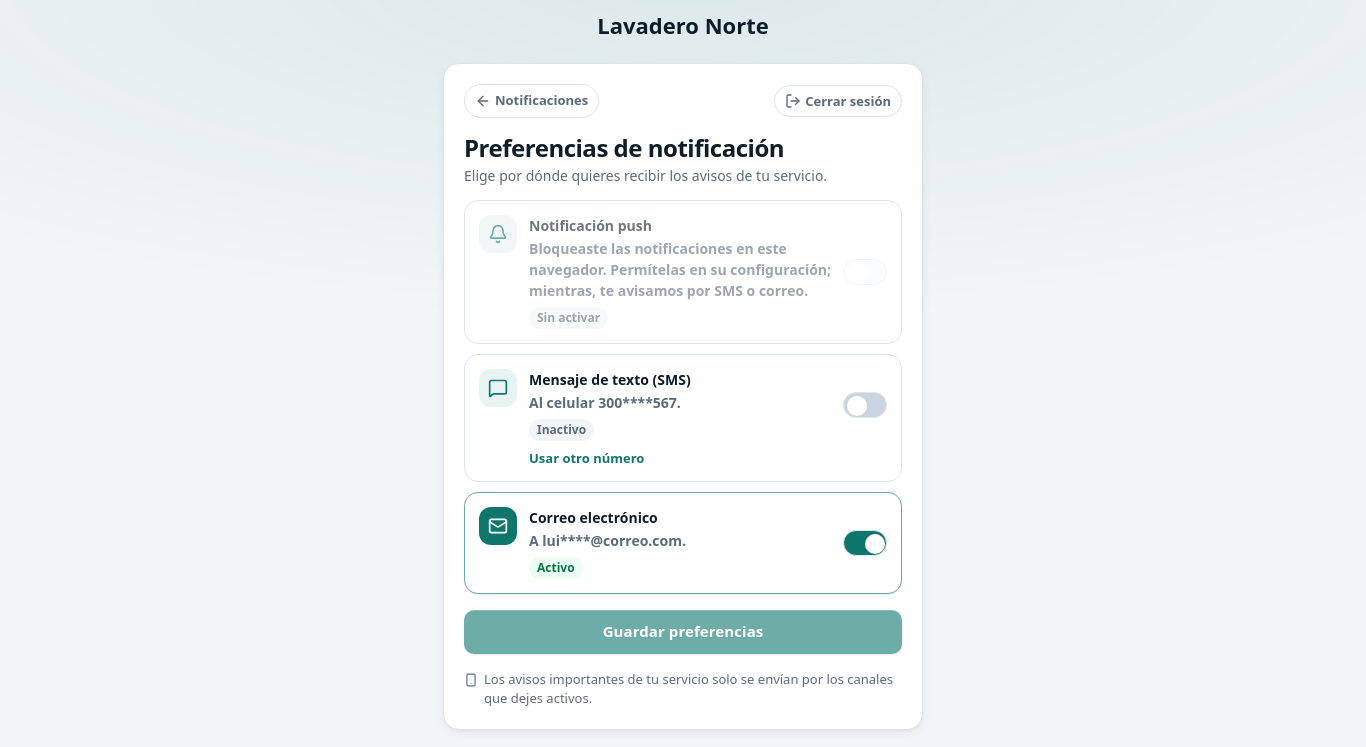
Scenario: HU-29 · pantalla de preferencias › CA2: no deja reenviar el código antes de tiempo
Expected: the heading "Preferencias de notificación" is shown, x1=464 y1=130 x2=784 y2=164
Click the button "Usar otro número" at (562, 465), box x1=465 y1=449 x2=658 y2=481
(page scrolled)
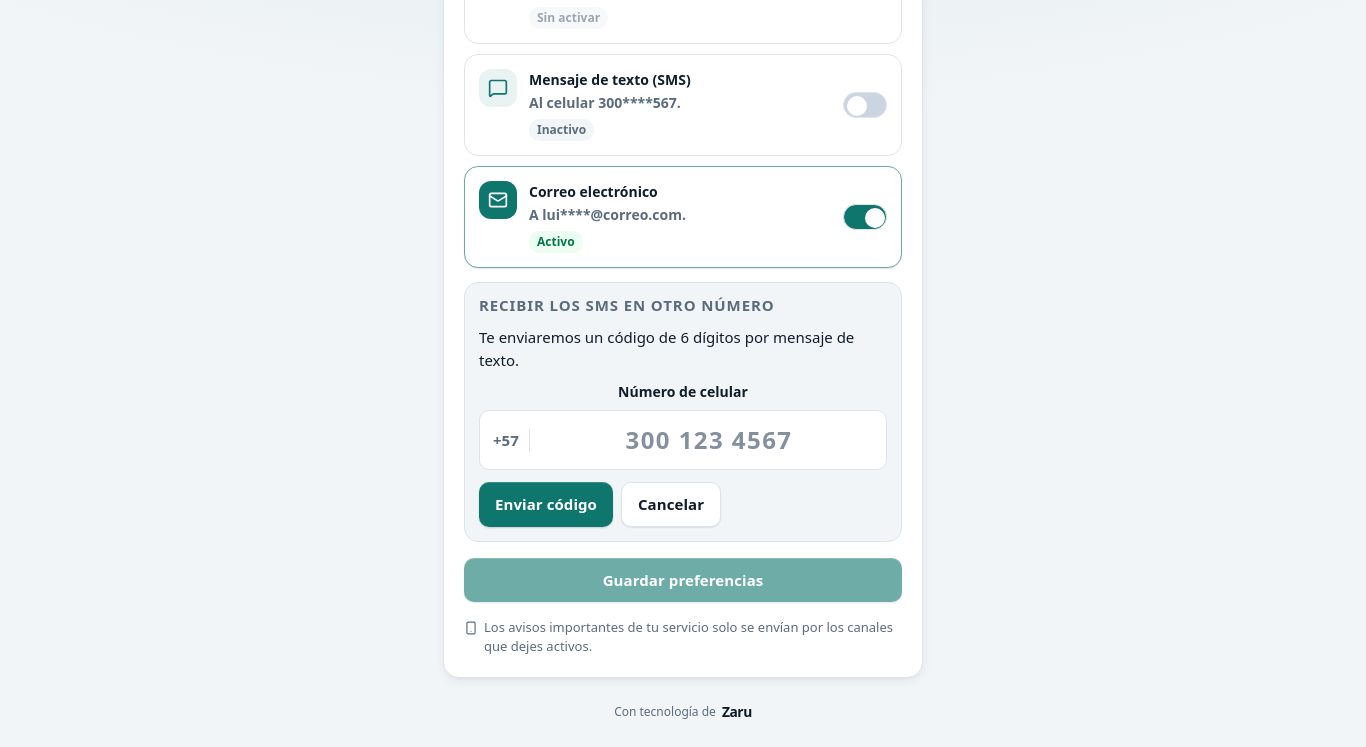
Type "310 999 8877" into the field labelled "Número de celular" at (683, 440), box x1=479 y1=410 x2=887 y2=470
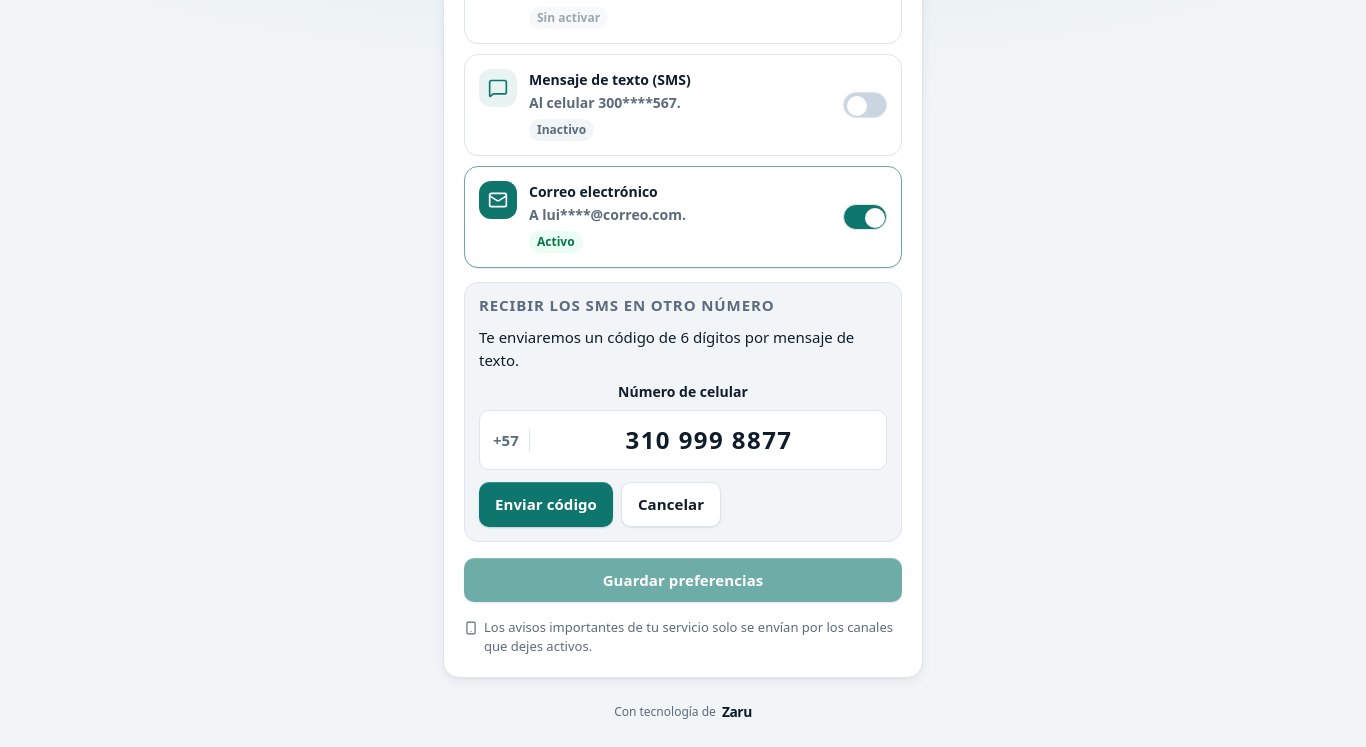
Click the button "Enviar código" at (546, 505), box x1=479 y1=482 x2=613 y2=527
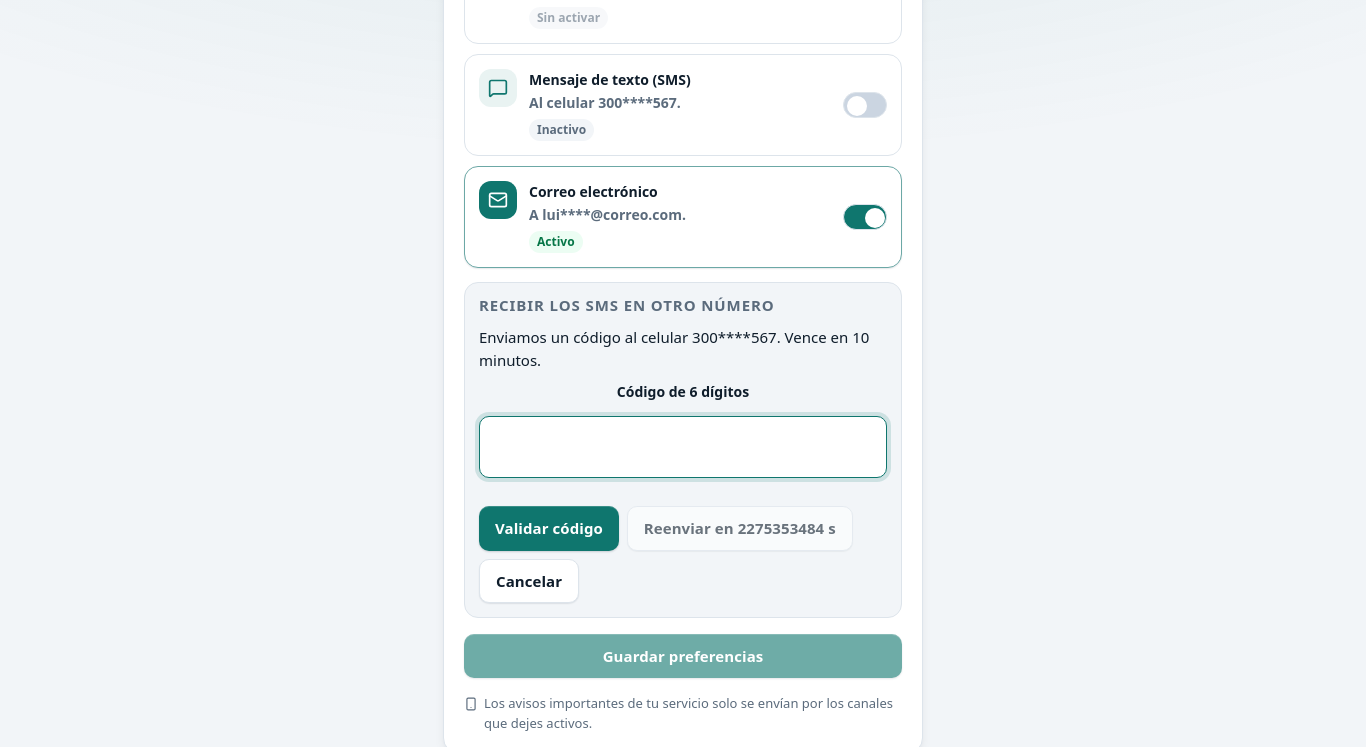
Expected: the button "Reenviar en 2275353484 s" is disabled, x1=627 y1=506 x2=853 y2=551
